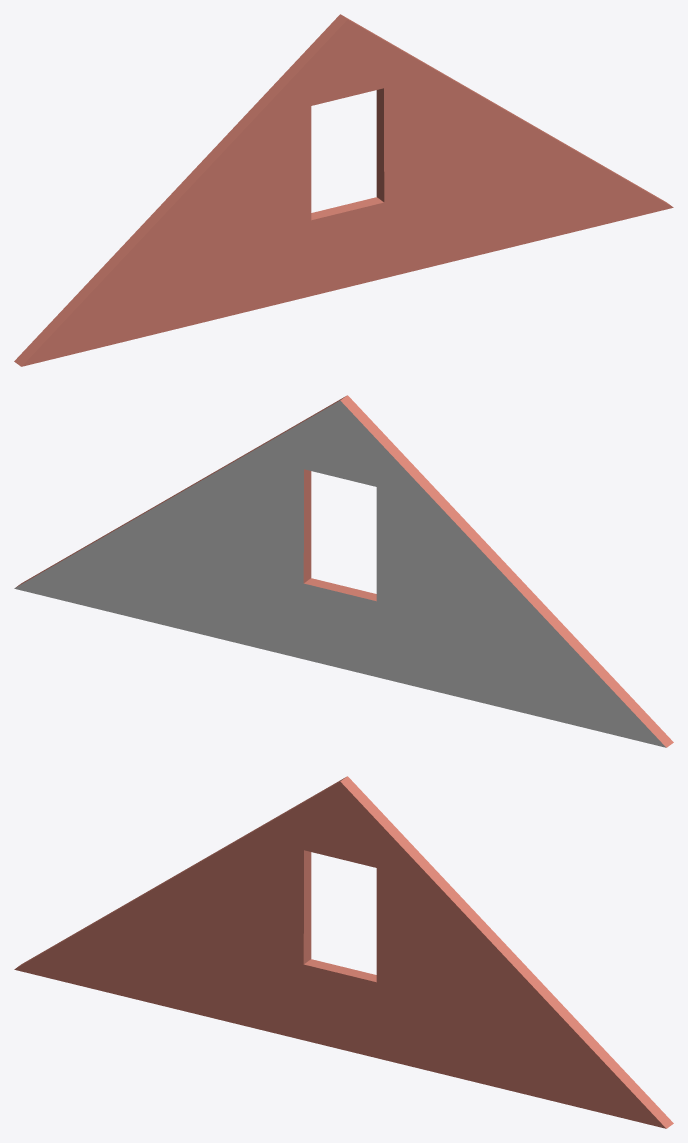
The model's file is Wall1_C6_19.fbx.
3 views of the same model, one above another, from view 1: azimuth 30°, elevation 25°; view 2: azimuth 150°, elevation 25°; view 3: azimuth 330°, elevation 25° (orthographic).
Parts seen in each view (by area): view 1: Wall1_C6_19; view 2: Wall1_C6_19; view 3: Wall1_C6_19.
Boxes of the visible parts, bbox=[...] form: Wall1_C6_19: bbox=[14, 14, 673, 366]; Wall1_C6_19: bbox=[14, 395, 673, 747]; Wall1_C6_19: bbox=[14, 776, 673, 1128].
Size of the model in its own units: 765 by 300 by 15.
